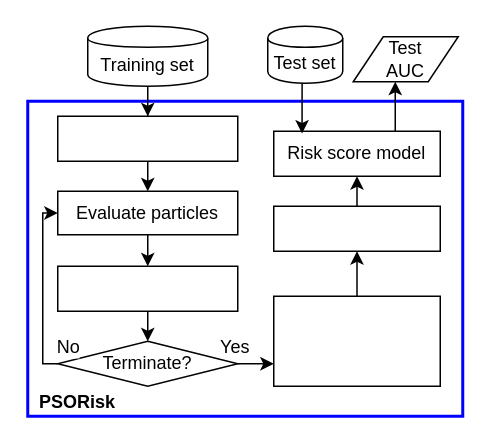
Image size: 489x444. Some labels were removed from this diagram. The shapes that lost their labels are listed below. From the top down, each one's box as (x1, y1, x2, y2) in pixels, then its label:
(56, 115, 238, 161): Initialise particles
(272, 205, 440, 251): Logistic Regression
(56, 265, 238, 311): Update particles
(272, 295, 440, 386): Construct risk score based on the best feasible particle
